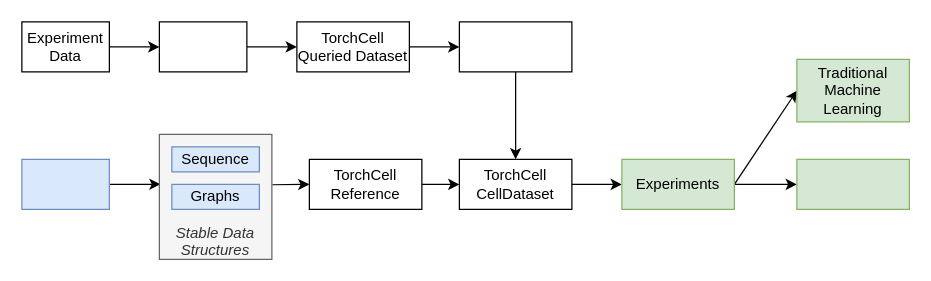
This 931x281 diagram has some shape labels left out. Each missing label, with the centre of its shape:
"Databases" goes at point 65,183.
"Deep Learning" goes at point 852,183.
"TorchCell Database" goes at point 202,46.
"TorchCell Deduplication" goes at point 515,46.
